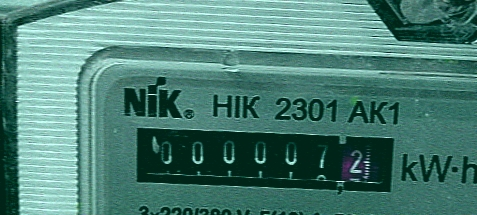0: (157, 135, 176, 163), (252, 136, 270, 164), (221, 135, 238, 164), (190, 136, 207, 164), (284, 137, 300, 166)
2: (348, 146, 366, 173)
7: (314, 138, 331, 169)
screen: (123, 112, 407, 203)
